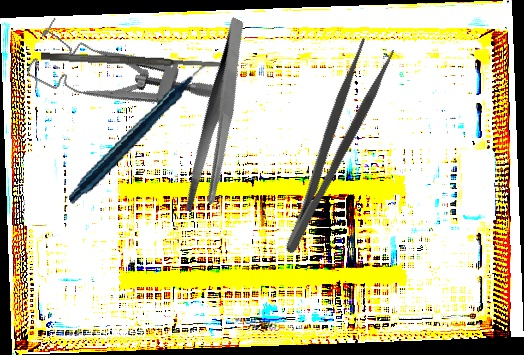Dressing Forceps: (262, 35, 399, 257), (144, 16, 293, 220)
Handpiece: (51, 60, 235, 206)
Spatula Surgical: (40, 51, 231, 71)
Speculum: (19, 0, 226, 159)
